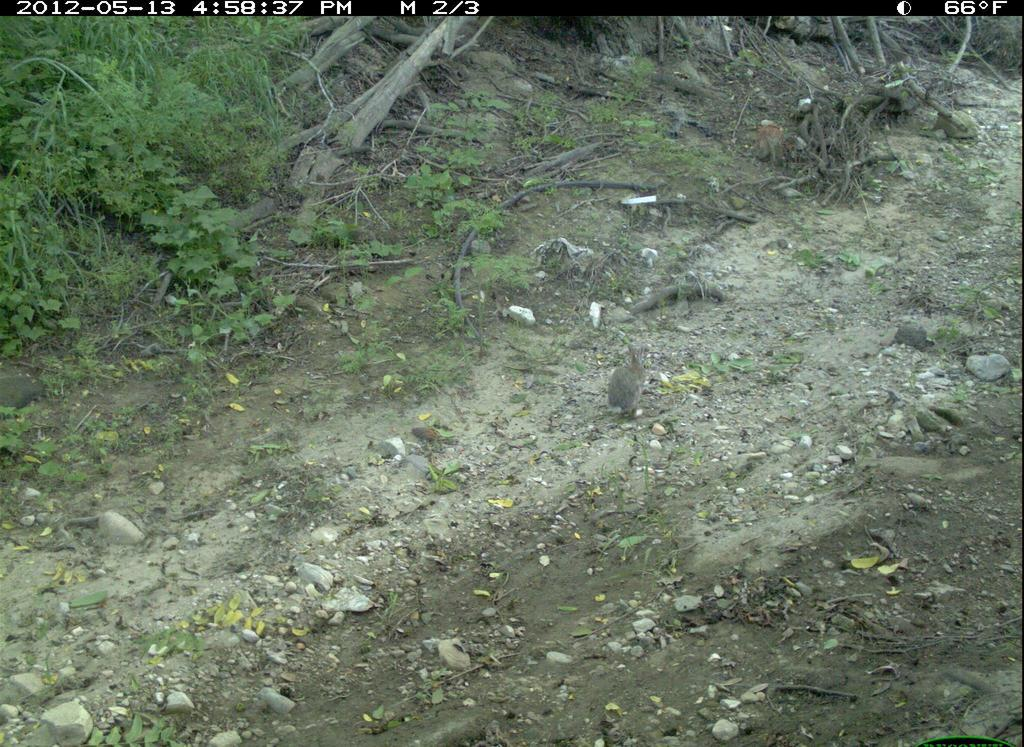rabbit: (600, 340, 653, 425)
